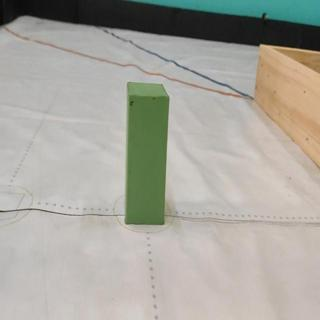greenbox: (123, 79, 170, 224)
